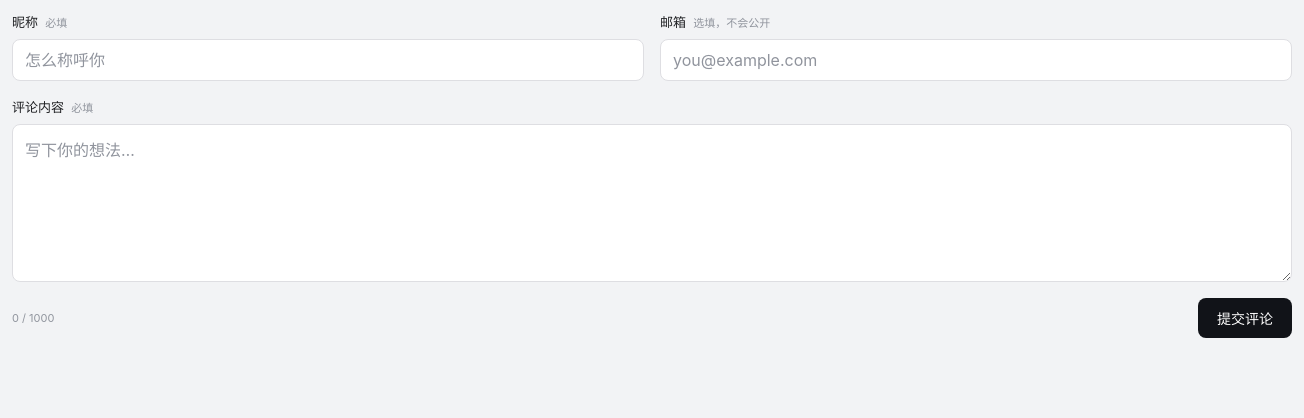
Test: CommentForm › rejects an invalid optional email before making a request
This screenshot has width=1304, height=418.
Type "认真读者" into the field named "nickname" at (328, 60), box [12,39,644,81]
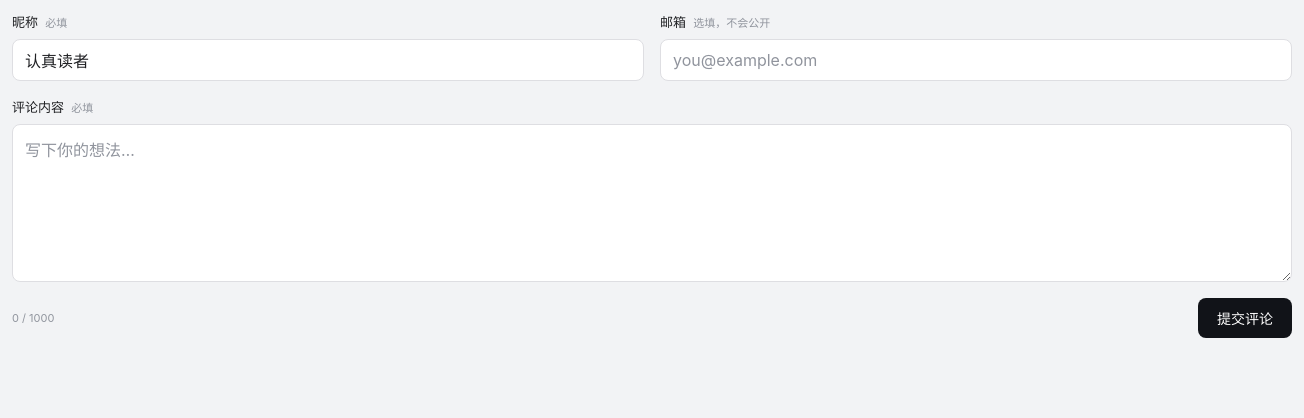
Type "not-an-email" into the field named "email" at (976, 60), box [660,39,1292,81]
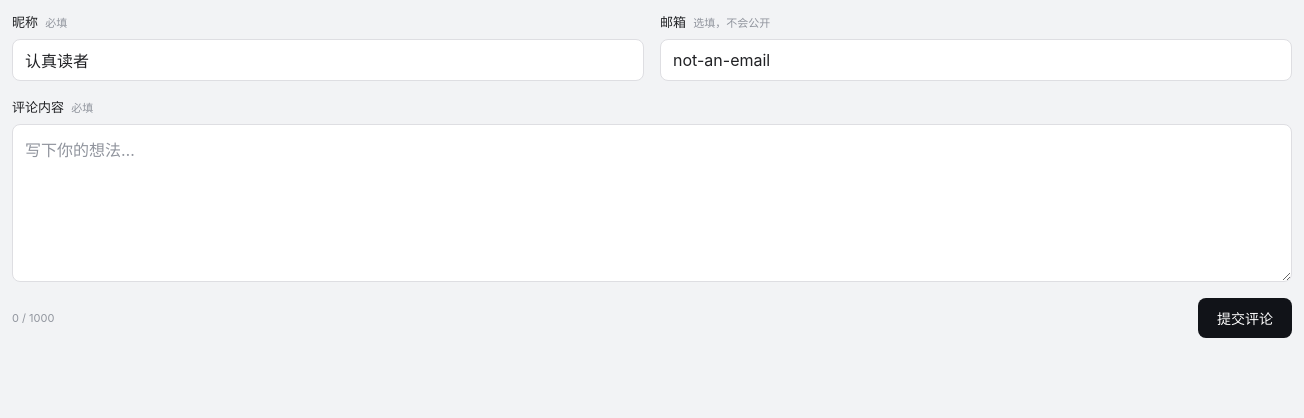
Type "有效评论内容" into the text box named "content" at (652, 203), box [12,124,1292,282]
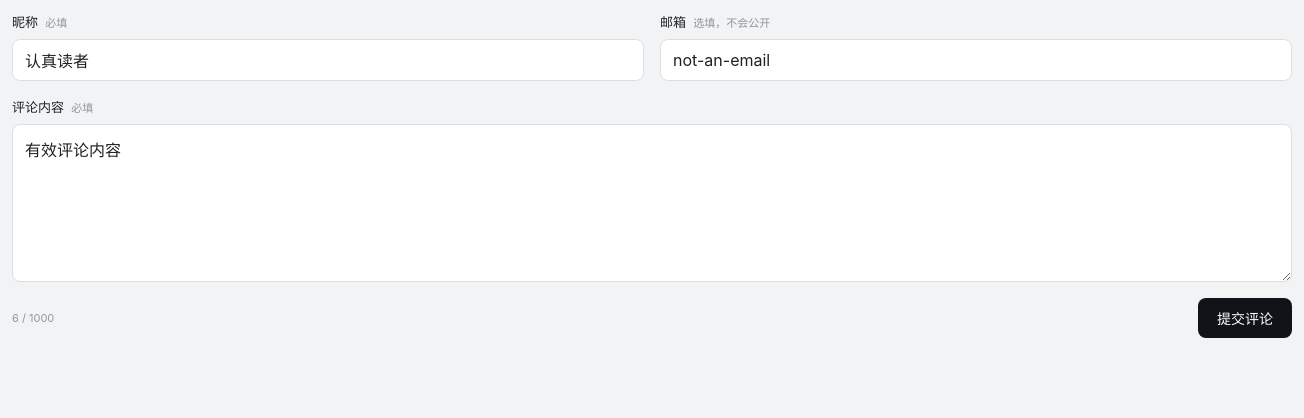
Submit the form
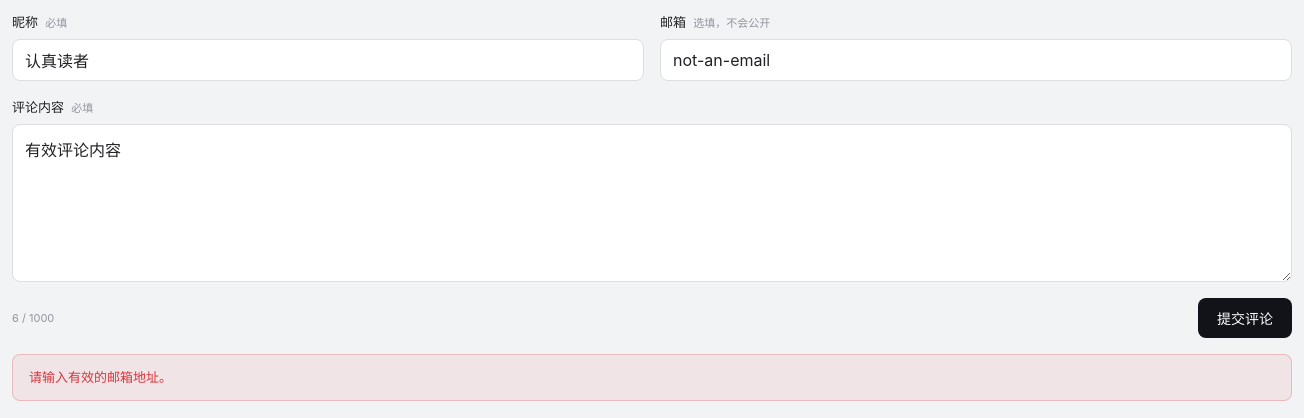
Now the form shows "请输入有效的邮箱地址。", box [29,369,172,385]
